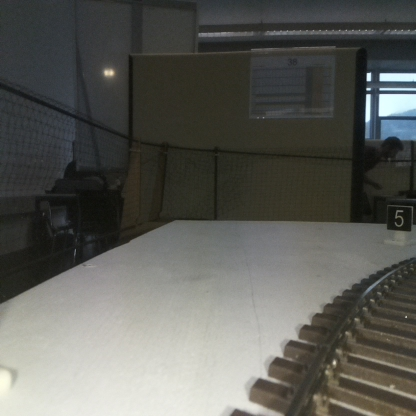black-stop-5: (387, 204, 411, 245)
